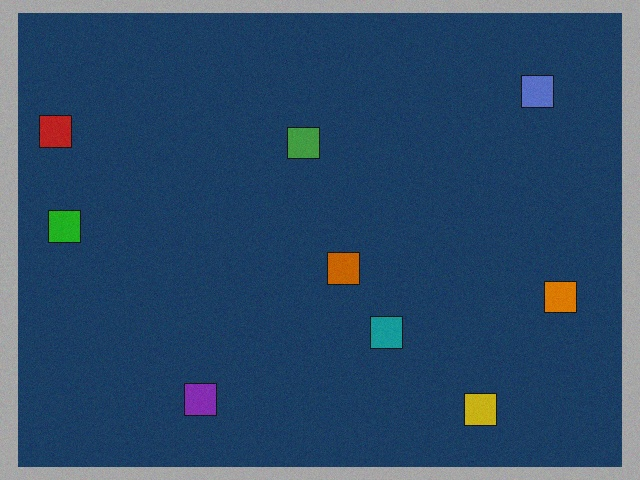block: (40, 116, 85, 153), (511, 76, 553, 115), (456, 385, 496, 425), (532, 279, 576, 313), (184, 376, 222, 415), (49, 211, 94, 243), (368, 312, 403, 349), (287, 127, 319, 163), (327, 252, 360, 284)
